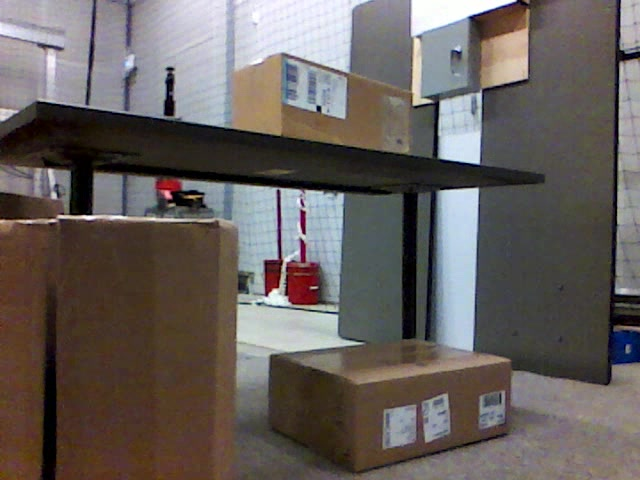box: (2, 215, 235, 480), (270, 338, 512, 474), (233, 52, 414, 149)
